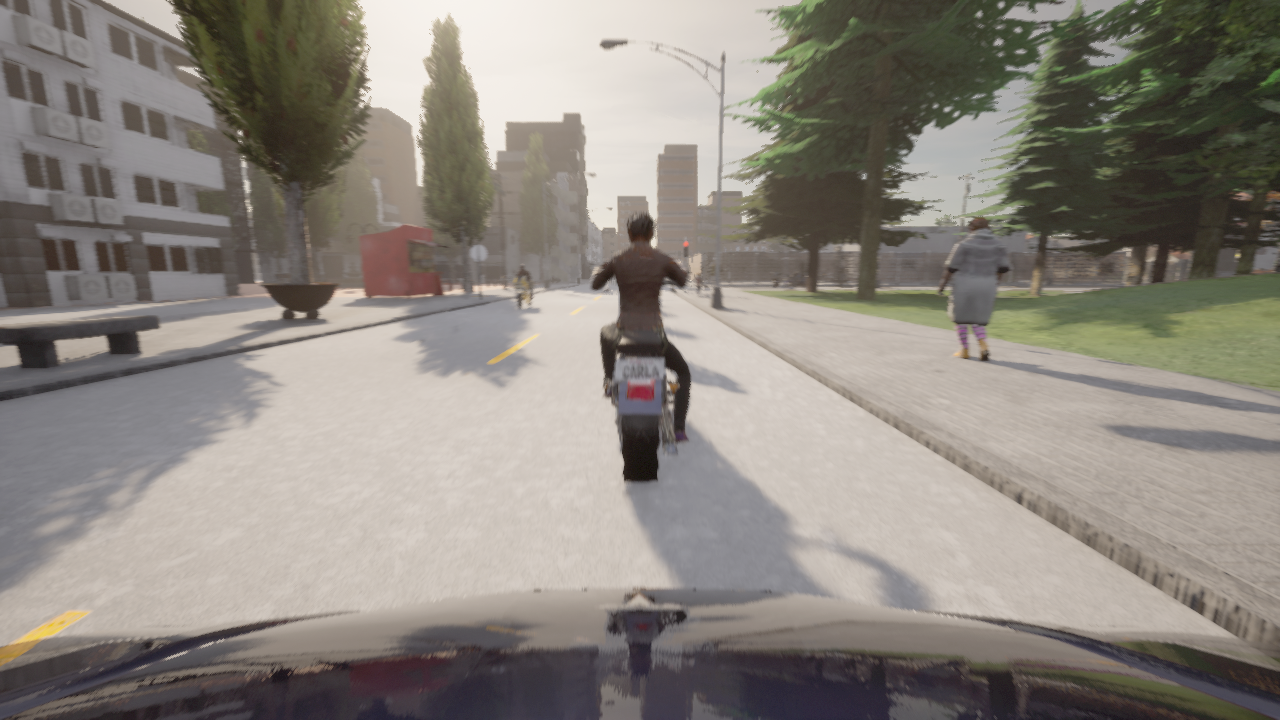cyclist: (0, 588, 1279, 719), (590, 263, 690, 481), (508, 274, 535, 308), (784, 273, 806, 287), (745, 271, 767, 279), (770, 272, 779, 288), (724, 267, 735, 277), (818, 268, 824, 279), (752, 273, 762, 279), (780, 275, 784, 277), (834, 271, 837, 272)
pedestrian: (938, 217, 1010, 361), (710, 259, 723, 286), (694, 272, 701, 296)
